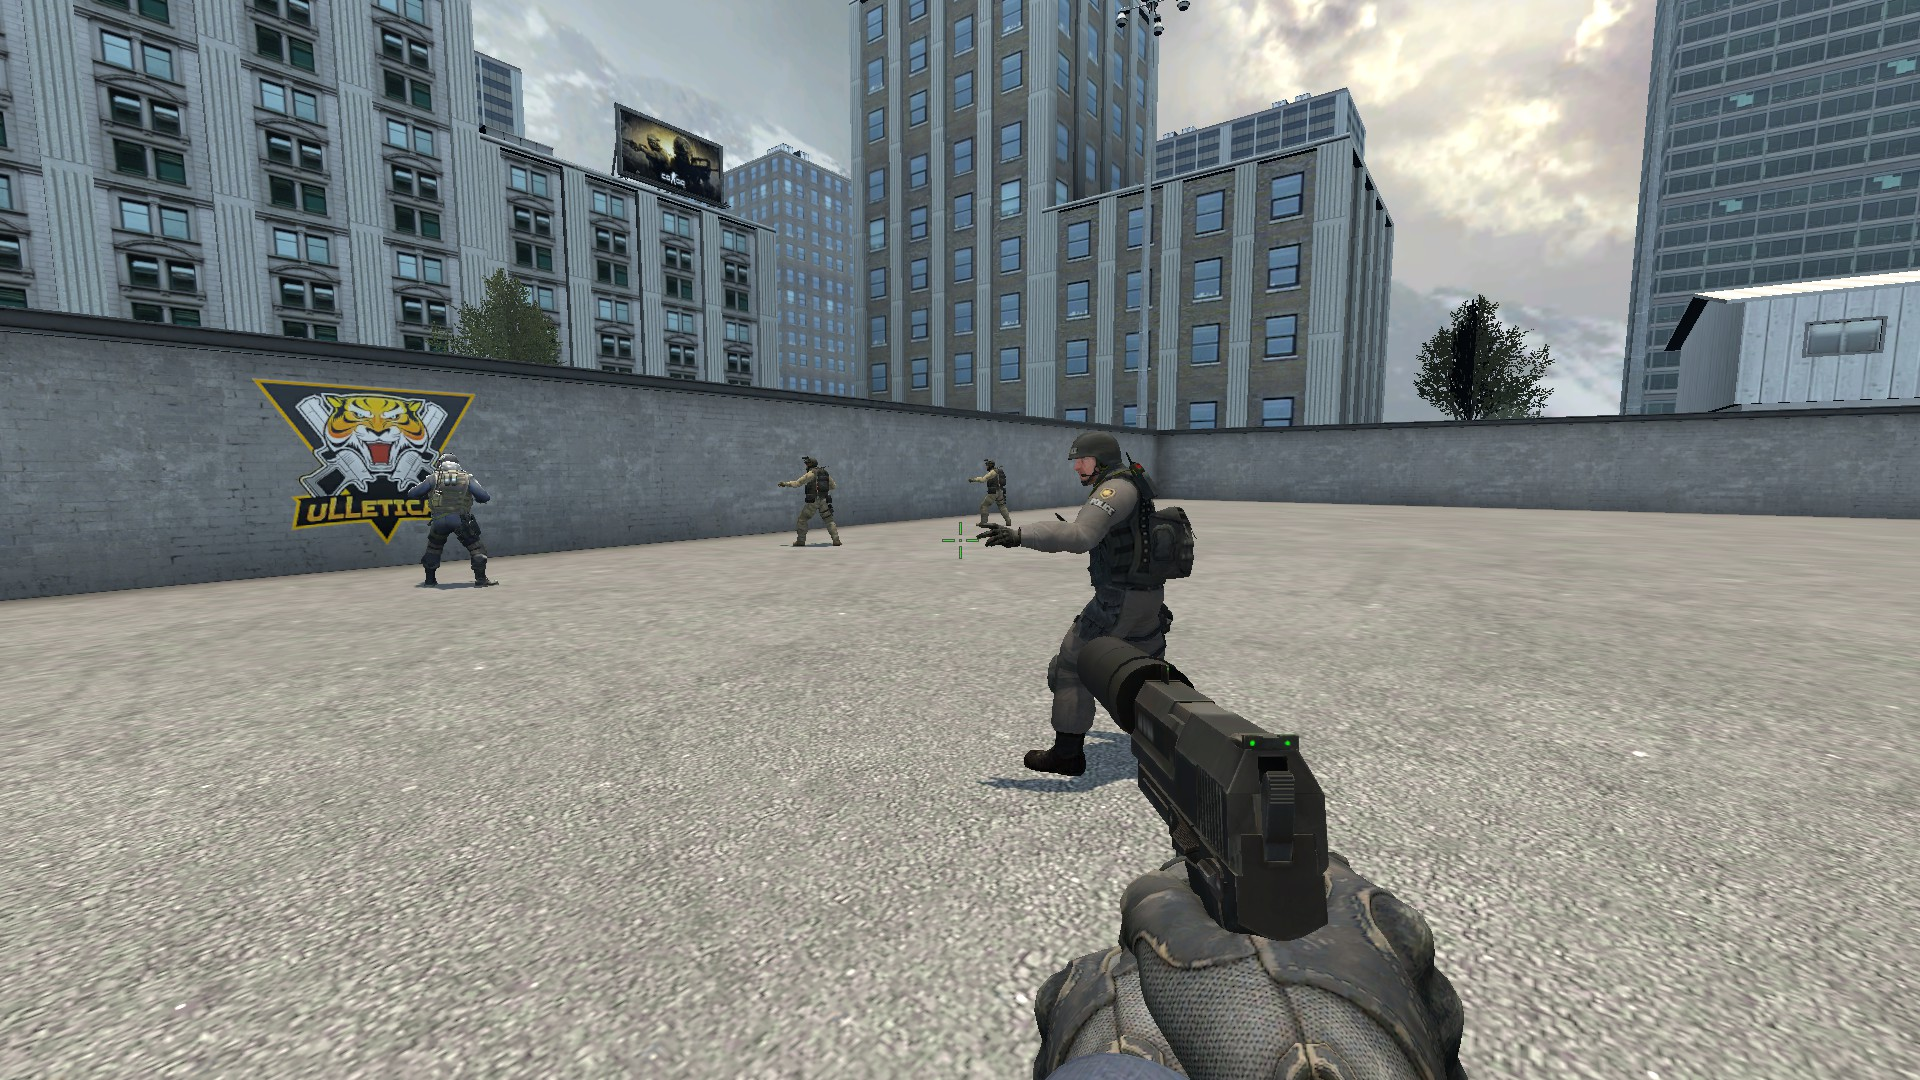ct: (972, 429, 1200, 778)
ct head: (1064, 429, 1131, 489)
